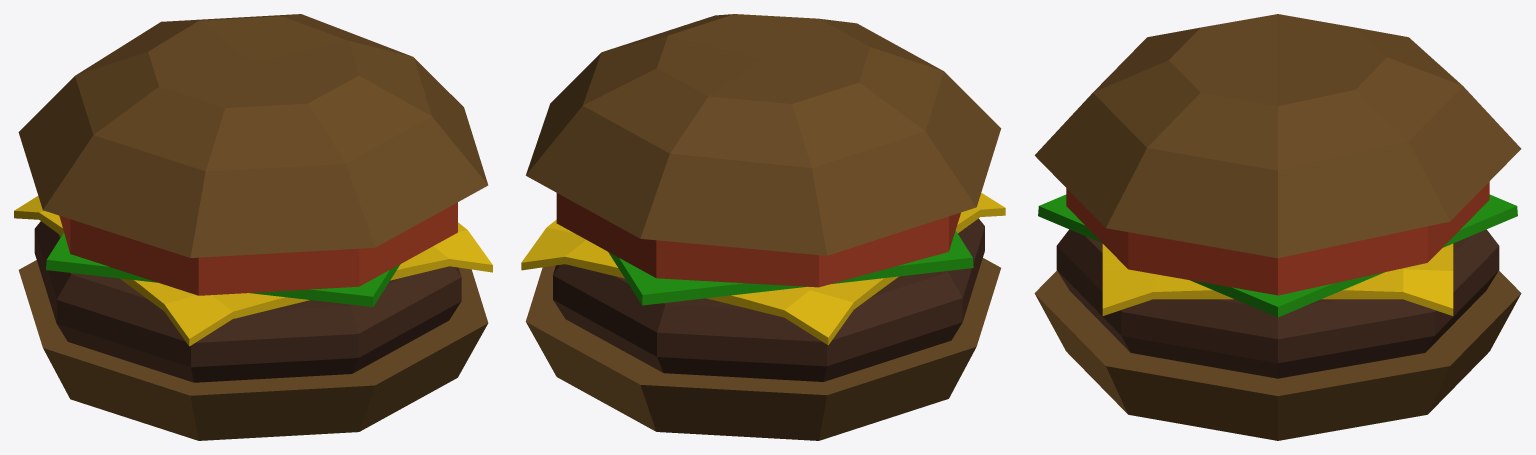
The model's file is burger.glb.
3 renders of one model, left to right at view 1: azimuth 30°, elevation 25°; view 2: azimuth 150°, elevation 25°; view 3: azimuth 270°, elevation 25°, orthographic.
Visible parts, largest first — view 1: Burger; view 2: Burger; view 3: Burger.
Part boxes in pixels (<box>): Burger: <box>14,14,492,440</box>; Burger: <box>521,14,1005,440</box>; Burger: <box>1034,14,1521,440</box>.
Size of the model in its own units: 2.78 by 1.85 by 2.78.
Materials: 1 (1 with a texture image).
